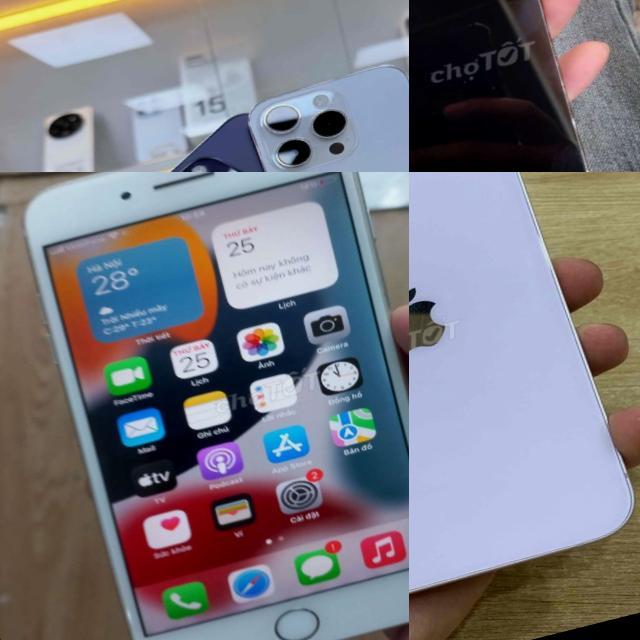gen_12_13: (409, 0, 606, 172)
gen_14: (409, 172, 640, 620), (237, 40, 409, 172)
gen_7_8: (0, 172, 409, 640)
